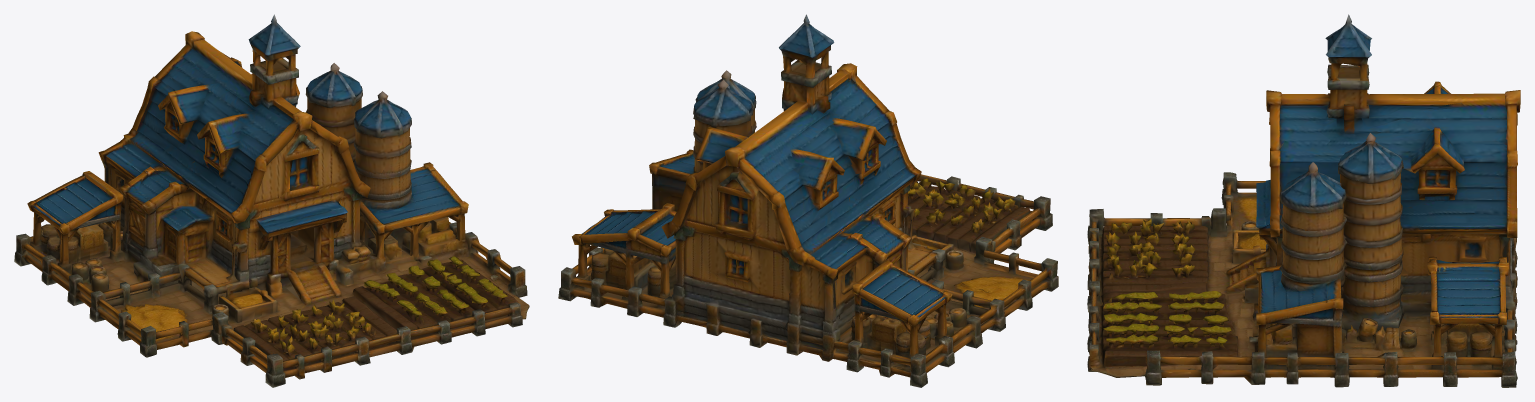
Rendered from farm_stage2.glb.
3 renders of one model, left to right at view 1: azimuth 30°, elevation 25°; view 2: azimuth 150°, elevation 25°; view 3: azimuth 270°, elevation 25°, orthographic. The views are drawn at different scales.
Visible parts, largest first — view 1: tripo_node_11d88f0c-dc0b-452c-b703-00dc93fec063; view 2: tripo_node_11d88f0c-dc0b-452c-b703-00dc93fec063; view 3: tripo_node_11d88f0c-dc0b-452c-b703-00dc93fec063.
Boxes of the visible parts, box(x1,y1,x2,y2) form: tripo_node_11d88f0c-dc0b-452c-b703-00dc93fec063: box(14, 14, 529, 387); tripo_node_11d88f0c-dc0b-452c-b703-00dc93fec063: box(558, 14, 1058, 387); tripo_node_11d88f0c-dc0b-452c-b703-00dc93fec063: box(1087, 14, 1520, 387).
Bounding box in the file's own units: 1 × 0.7107 × 0.9667.
Materials: 1 (1 with a texture image).
